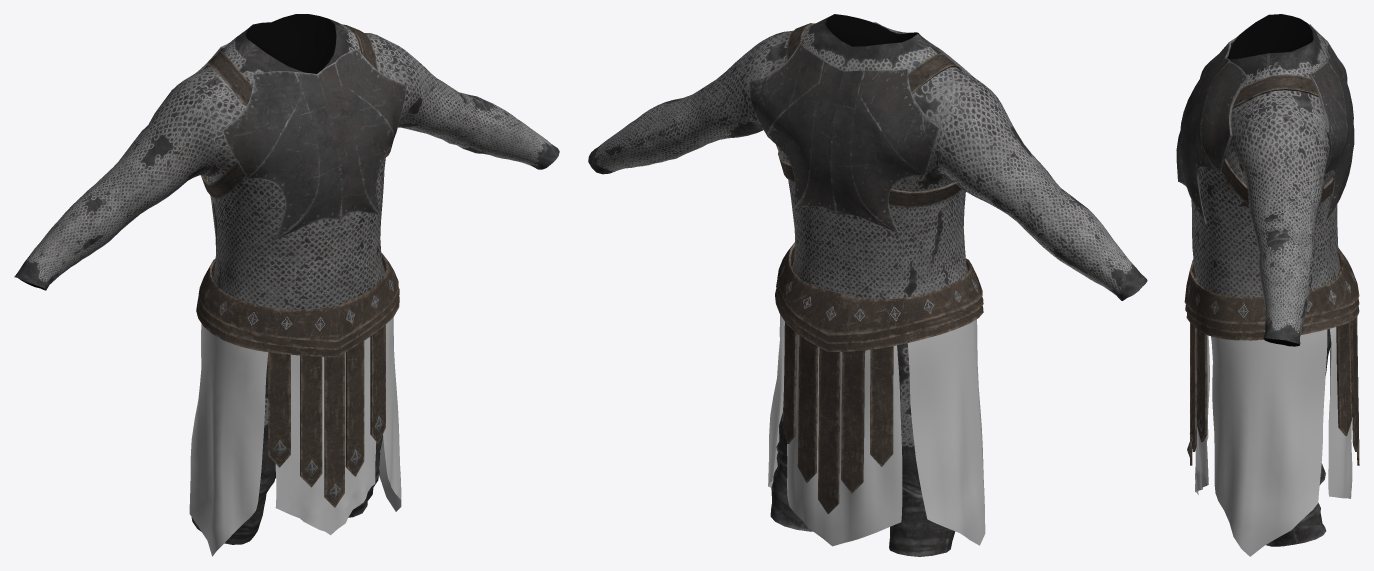
File: sk_uruk_mordor_chainmail_medium_c1.fbx
3 renders of one model, left to right at view 1: azimuth 30°, elevation 25°; view 2: azimuth 150°, elevation 25°; view 3: azimuth 270°, elevation 25°, orthographic. The views are drawn at different scales.
Visible parts, largest first — view 1: sk_uruk_mordor_chainmail_medium_c1.0, sk_uruk_mordor_chainmail_medium_c1.1, sk_uruk_mordor_chainmail_medium_c1.2, sk_uruk_mordor_chainmail_medium_c1.3; view 2: sk_uruk_mordor_chainmail_medium_c1.0, sk_uruk_mordor_chainmail_medium_c1.1, sk_uruk_mordor_chainmail_medium_c1.2, sk_uruk_mordor_chainmail_medium_c1.3; view 3: sk_uruk_mordor_chainmail_medium_c1.0, sk_uruk_mordor_chainmail_medium_c1.2, sk_uruk_mordor_chainmail_medium_c1.1, sk_uruk_mordor_chainmail_medium_c1.3.
Part boxes in pixels (<box>): sk_uruk_mordor_chainmail_medium_c1.0: <box>14,14,559,544</box>; sk_uruk_mordor_chainmail_medium_c1.1: <box>196,24,399,507</box>; sk_uruk_mordor_chainmail_medium_c1.2: <box>189,317,401,556</box>; sk_uruk_mordor_chainmail_medium_c1.3: <box>171,43,406,240</box>; sk_uruk_mordor_chainmail_medium_c1.0: <box>588,14,1147,556</box>; sk_uruk_mordor_chainmail_medium_c1.1: <box>775,23,983,513</box>; sk_uruk_mordor_chainmail_medium_c1.2: <box>768,315,985,546</box>; sk_uruk_mordor_chainmail_medium_c1.3: <box>749,22,973,232</box>; sk_uruk_mordor_chainmail_medium_c1.0: <box>1191,14,1340,546</box>; sk_uruk_mordor_chainmail_medium_c1.2: <box>1195,277,1352,556</box>; sk_uruk_mordor_chainmail_medium_c1.1: <box>1184,74,1359,465</box>; sk_uruk_mordor_chainmail_medium_c1.3: <box>1176,24,1354,223</box>.
Size of the model in its own units: 1.37 by 0.416 by 1.21.
